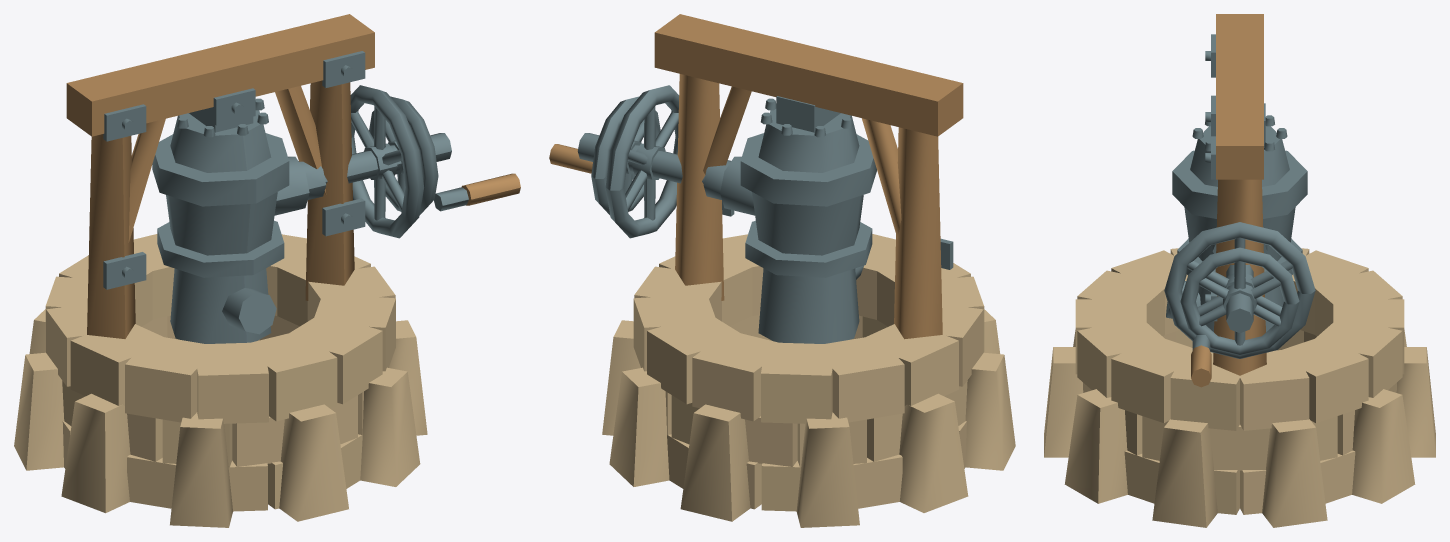
Rendered from deep-well.source.glb.
The picture shows the model from 3 angles, left to right: view 1: azimuth 30°, elevation 25°; view 2: azimuth 150°, elevation 25°; view 3: azimuth 270°, elevation 25°; orthographic projection. The views are drawn at different scales.
Parts seen in each view (by area): view 1: deep-well-top-beam-mesh, deep-well-left-post-mesh, deep-well-right-post-mesh, deep-well-buttress-1-mesh, deep-well-buttress-9-mesh, deep-well-buttress-10-mesh, deep-well-buttress-2-mesh, deep-well-stone-course-top-block-13-mesh, deep-well-stone-course-top-block-14-mesh, deep-well-pump-upper-flange-mesh, deep-well-stone-course-top-block-1-mesh, deep-well-main-pump-chamber-mesh (+38 smaller); view 2: deep-well-top-beam-mesh, deep-well-left-post-mesh, deep-well-right-post-mesh, deep-well-lower-pump-column-mesh, deep-well-buttress-6-mesh, deep-well-buttress-8-mesh, deep-well-buttress-7-mesh, deep-well-buttress-5-mesh, deep-well-stone-course-top-block-9-mesh, deep-well-stone-course-top-block-10-mesh, deep-well-stone-course-top-block-8-mesh, deep-well-pump-upper-flange-mesh (+33 smaller); view 3: deep-well-top-beam-mesh, deep-well-buttress-3-mesh, deep-well-buttress-4-mesh, deep-well-buttress-2-mesh, deep-well-buttress-5-mesh, deep-well-large-inner-wheel-rim-mesh, deep-well-stone-course-top-block-3-mesh, deep-well-stone-course-top-block-6-mesh, deep-well-small-outer-wheel-rim-mesh, deep-well-stone-course-top-block-5-mesh, deep-well-right-post-mesh, deep-well-stone-course-top-block-4-mesh (+25 smaller).
Boxes of the visible parts, x1,y1,x2,y2 form: deep-well-top-beam-mesh: [66, 14, 374, 136]; deep-well-left-post-mesh: [87, 134, 135, 338]; deep-well-right-post-mesh: [305, 80, 354, 300]; deep-well-buttress-1-mesh: [279, 404, 348, 521]; deep-well-buttress-9-mesh: [61, 393, 130, 513]; deep-well-buttress-10-mesh: [170, 412, 232, 527]; deep-well-buttress-2-mesh: [360, 367, 420, 486]; deep-well-stone-course-top-block-13-mesh: [125, 335, 210, 422]; deep-well-stone-course-top-block-14-mesh: [194, 342, 268, 423]; deep-well-pump-upper-flange-mesh: [152, 133, 289, 206]; deep-well-stone-course-top-block-1-mesh: [239, 330, 337, 421]; deep-well-main-pump-chamber-mesh: [166, 192, 277, 255]; deep-well-top-beam-mesh: [654, 14, 963, 136]; deep-well-left-post-mesh: [894, 127, 942, 339]; deep-well-right-post-mesh: [675, 74, 724, 300]; deep-well-lower-pump-column-mesh: [758, 268, 859, 343]; deep-well-buttress-6-mesh: [680, 404, 750, 521]; deep-well-buttress-8-mesh: [899, 393, 968, 512]; deep-well-buttress-7-mesh: [796, 412, 859, 527]; deep-well-buttress-5-mesh: [609, 367, 669, 486]; deep-well-stone-course-top-block-9-mesh: [761, 342, 835, 423]; deep-well-stone-course-top-block-10-mesh: [819, 335, 904, 422]; deep-well-stone-course-top-block-8-mesh: [692, 330, 790, 421]; deep-well-pump-upper-flange-mesh: [740, 133, 876, 206]; deep-well-top-beam-mesh: [1216, 14, 1263, 179]; deep-well-buttress-3-mesh: [1152, 419, 1217, 527]; deep-well-buttress-4-mesh: [1262, 419, 1327, 527]; deep-well-buttress-2-mesh: [1064, 389, 1127, 503]; deep-well-buttress-5-mesh: [1352, 389, 1415, 503]; deep-well-large-inner-wheel-rim-mesh: [1164, 222, 1315, 358]; deep-well-stone-course-top-block-3-mesh: [1111, 339, 1192, 422]; deep-well-stone-course-top-block-6-mesh: [1272, 339, 1368, 422]; deep-well-small-outer-wheel-rim-mesh: [1180, 247, 1299, 355]; deep-well-stone-course-top-block-5-mesh: [1240, 350, 1309, 430]; deep-well-right-post-mesh: [1213, 179, 1266, 375]; deep-well-stone-course-top-block-4-mesh: [1170, 352, 1240, 430].
Size of the model in its own units: 3.09 by 2.51 by 2.43.
